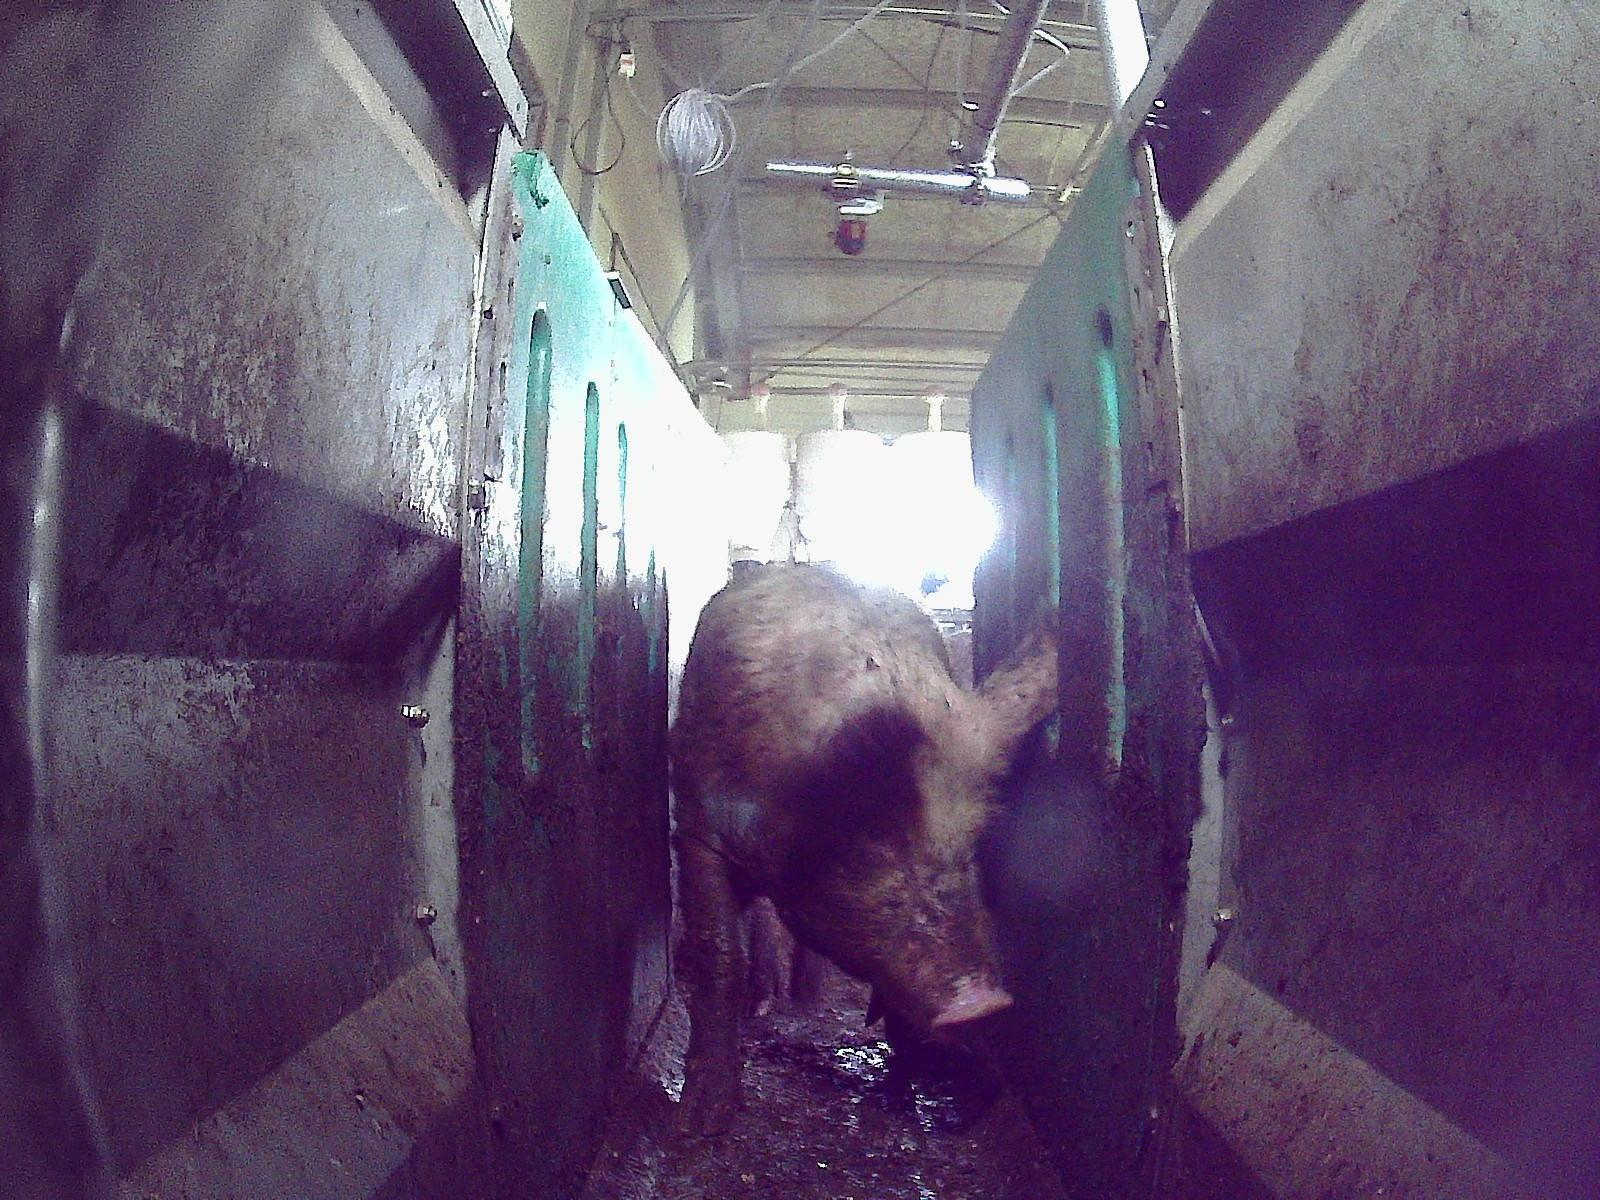Face: (800, 745, 1015, 1041)
